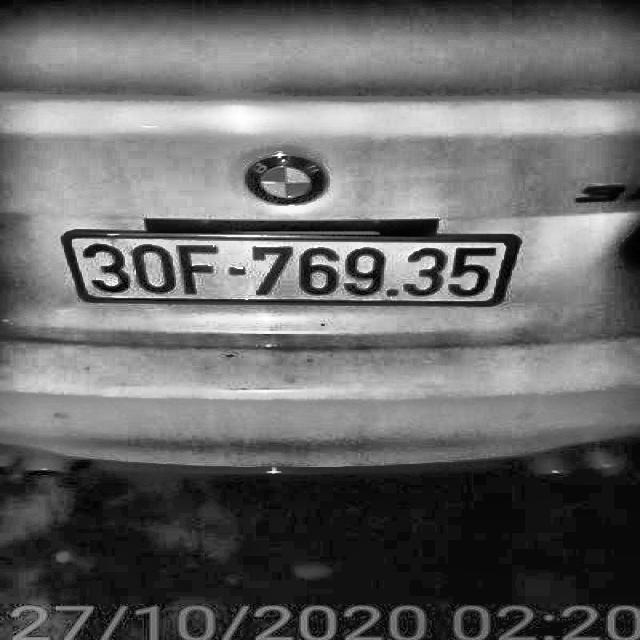plate: (52, 226, 526, 314)
